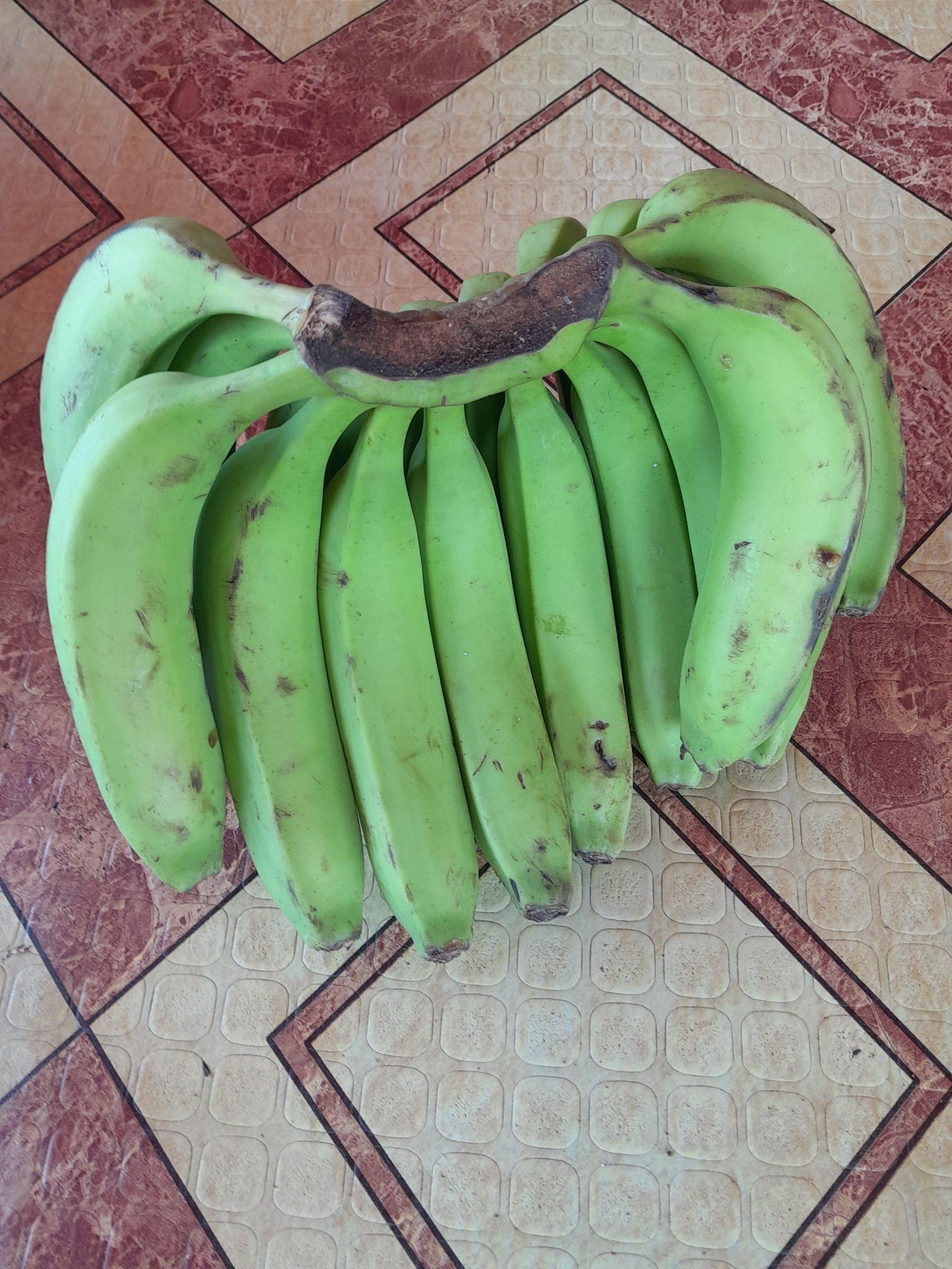Banana Unripe: (47, 352, 330, 890), (607, 255, 868, 771), (622, 169, 905, 615), (196, 397, 364, 949), (317, 406, 478, 962), (407, 406, 573, 920), (40, 218, 310, 491), (498, 382, 632, 863), (565, 340, 702, 786), (593, 315, 721, 581)
